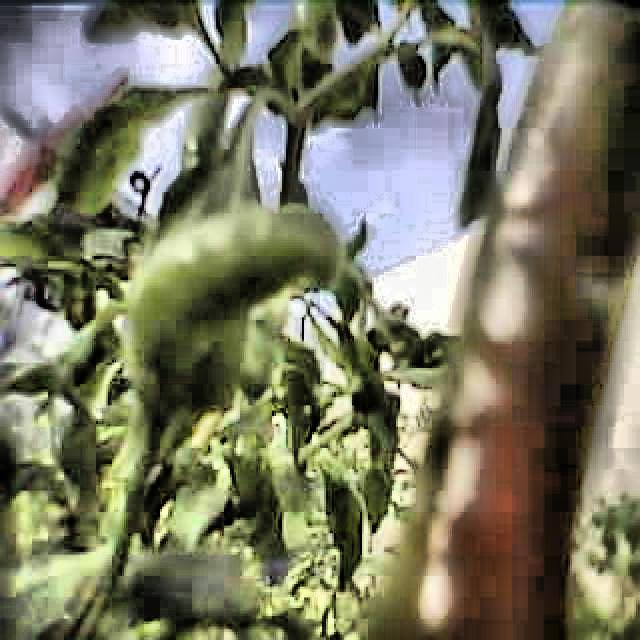Cabai: (1, 78, 114, 209)
